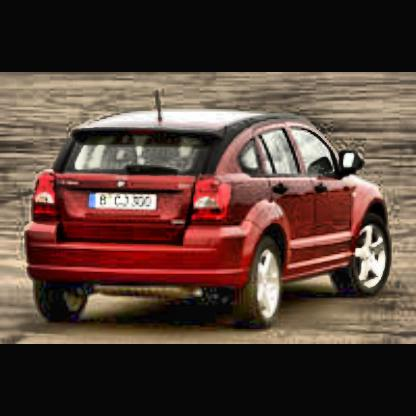Dodge Caliber Wagon 2007: (24, 109, 396, 333)
